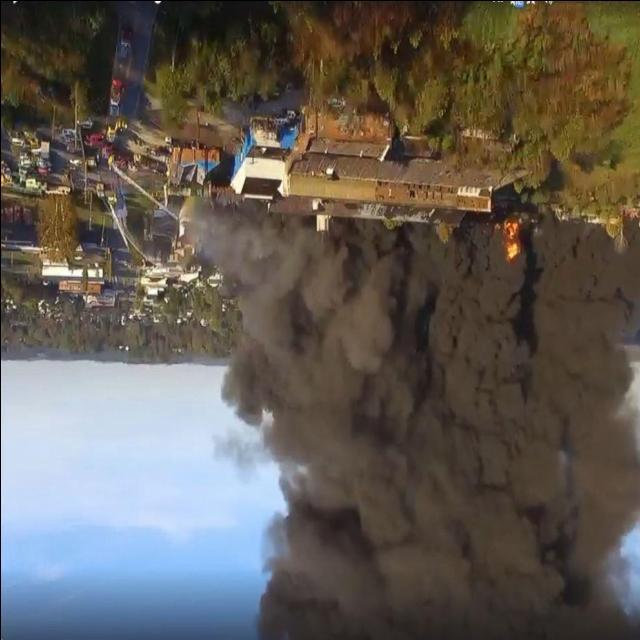Fire: (492, 215, 527, 267)
